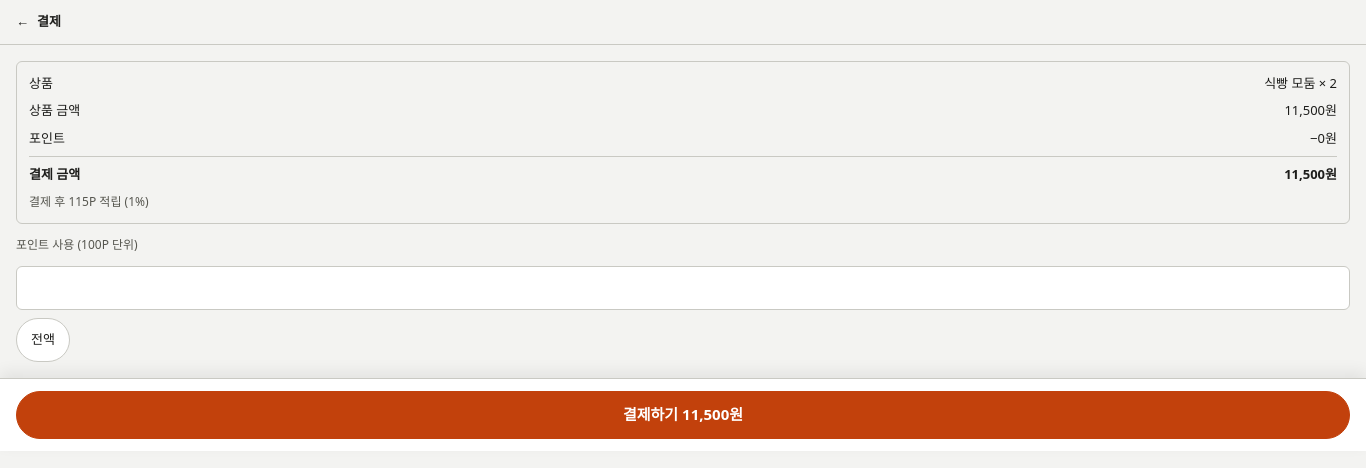
Test case: CheckoutPage 회귀: 결제 처리 중에는 나가기·취소가 막힌다 › pending 동안 ←는 비활성이거나 눌러도 시트가 열리지 않고 취소 API 0회
This screenshot has width=1366, height=468.
Click the button "결제하기 11,500원" at (683, 414), box 16,390 -> 1350,438
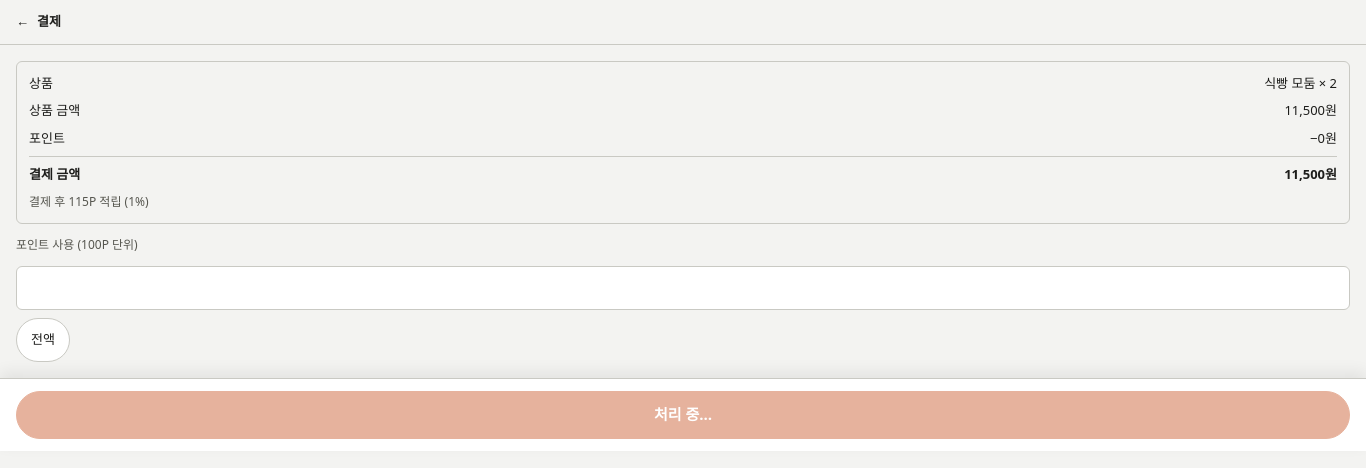
Result: the button "처리 중…" is shown at 16,390 -> 1350,438
